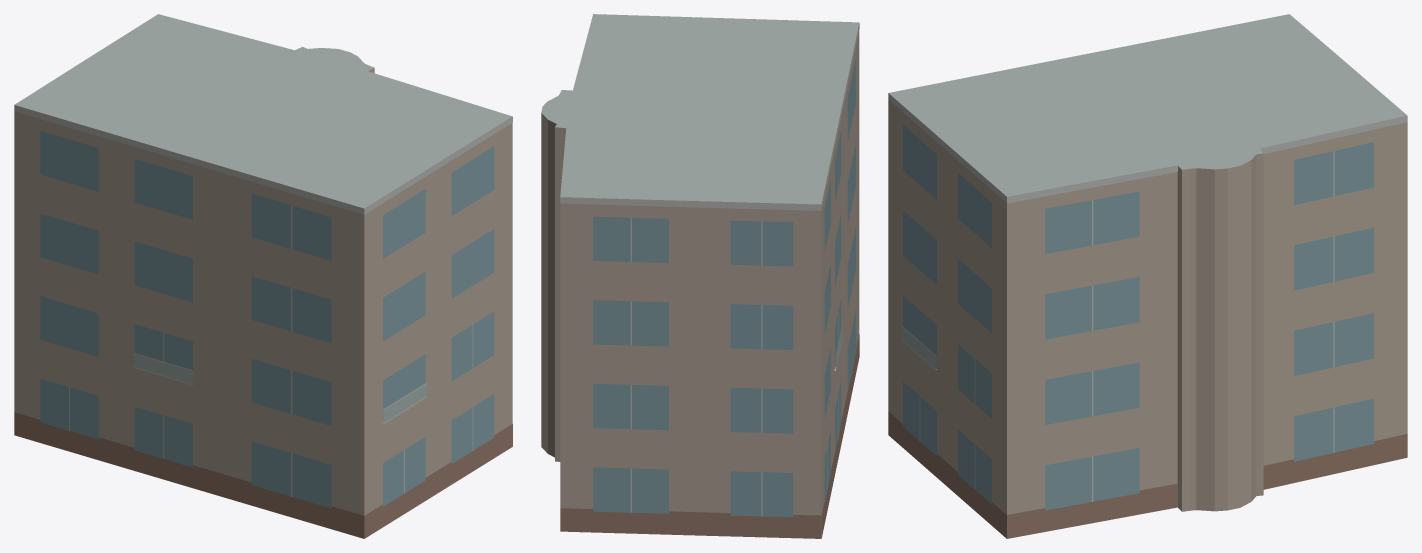
The model's file is survey-upis-32705710.glb.
3 renders of one model, left to right at view 1: azimuth 30°, elevation 25°; view 2: azimuth 150°, elevation 25°; view 3: azimuth 270°, elevation 25°, orthographic. The views are drawn at different scales.
Visible parts, largest first — view 1: survey-upis-32705710.tmp; view 2: survey-upis-32705710.tmp; view 3: survey-upis-32705710.tmp.
Boxes of the visible parts, bbox=[...] form: survey-upis-32705710.tmp: bbox=[14, 14, 512, 538]; survey-upis-32705710.tmp: bbox=[541, 14, 859, 538]; survey-upis-32705710.tmp: bbox=[888, 14, 1407, 538].
Size of the model in its own units: 14.69 by 12.8 by 17.63.
